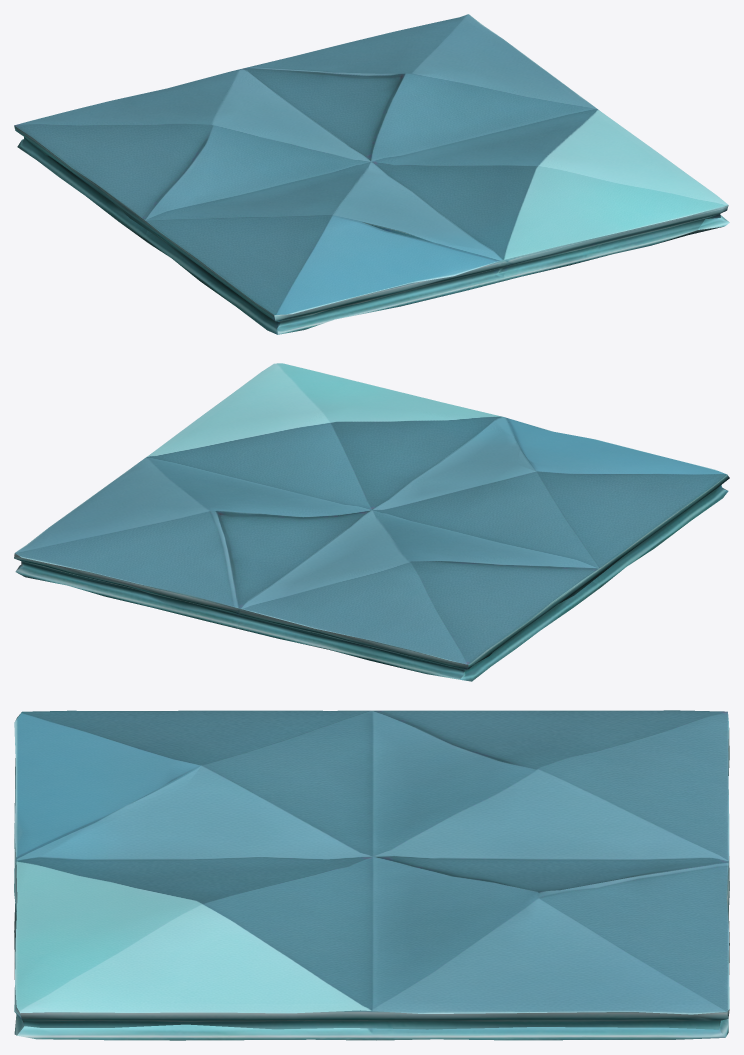
The model's file is waterTile.fbx.
The picture shows the model from 3 angles, top to bottom: view 1: azimuth 30°, elevation 25°; view 2: azimuth 150°, elevation 25°; view 3: azimuth 270°, elevation 25°; orthographic projection. The views are drawn at different scales.
Parts seen in each view (by area): view 1: input; view 2: input; view 3: input.
Boxes of the visible parts, box(x1,y1,x2,y2) form: input: box(14, 14, 729, 334); input: box(14, 363, 729, 681); input: box(14, 710, 729, 1040).
Size of the model in its own units: 99.77 by 13.42 by 99.72.
1 material, 1 textured.
